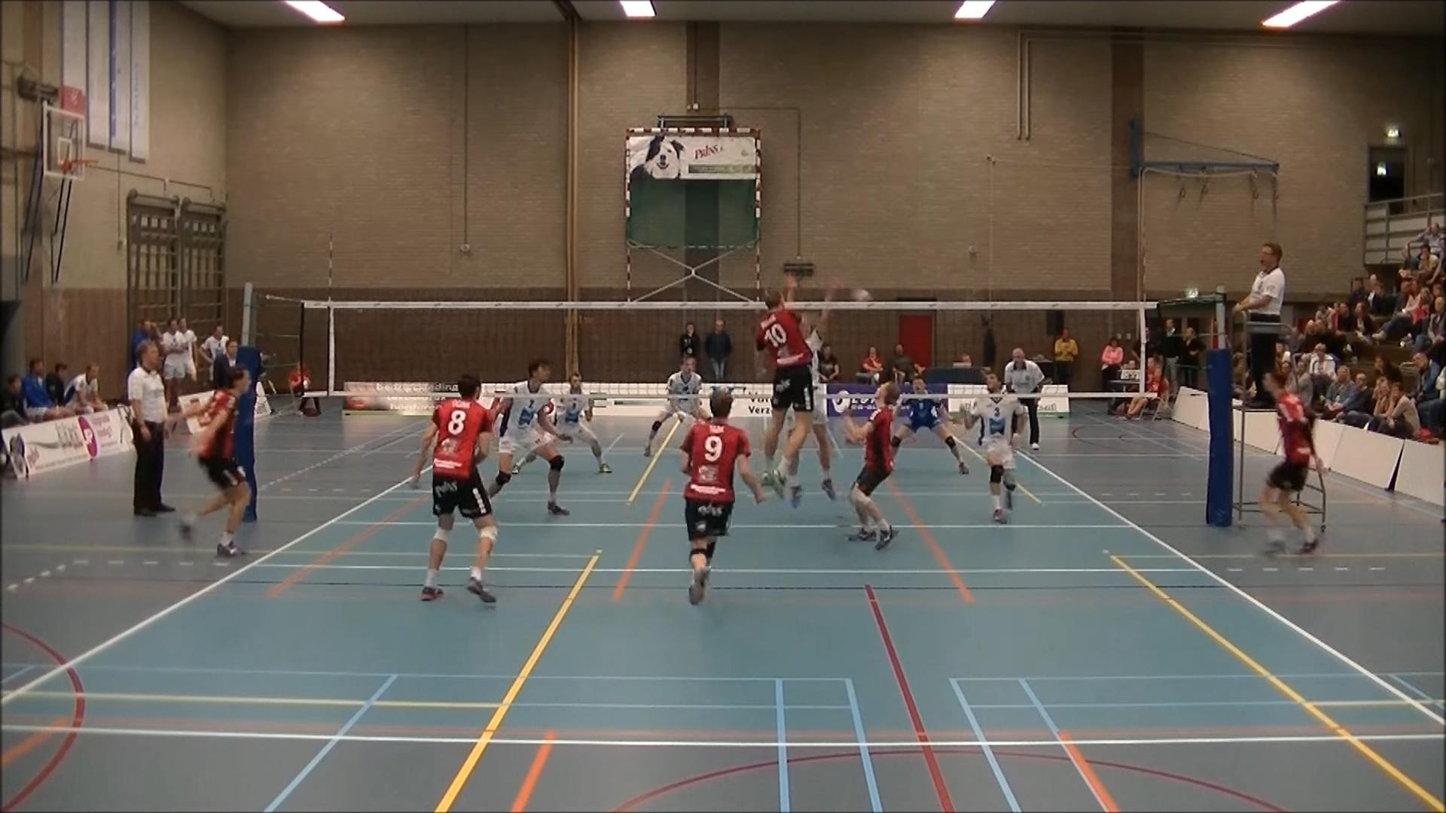attacco: (734, 274, 836, 503)
muro: (778, 256, 842, 508)
